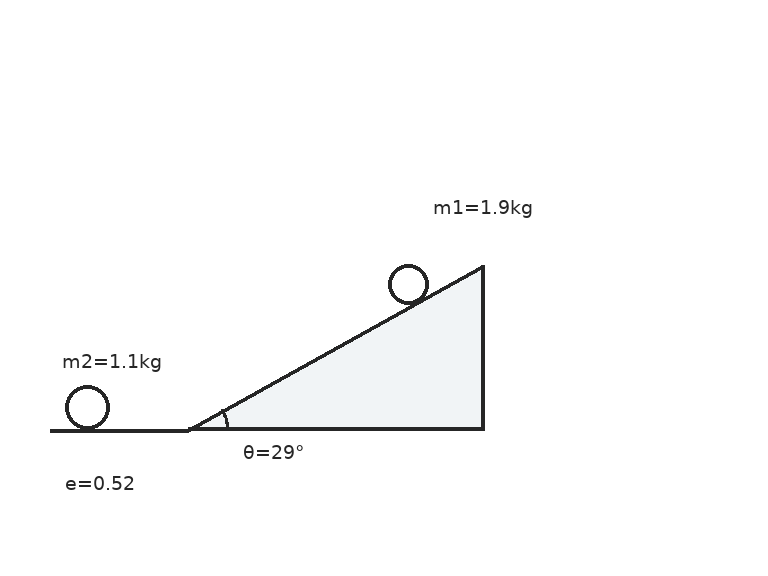ball: (63, 383, 111, 431), (386, 262, 430, 306)
ramp: (185, 264, 484, 431)
